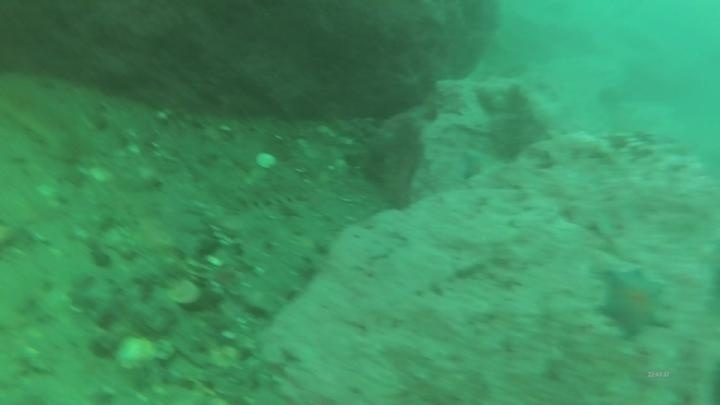holothurian: (229, 173, 312, 214)
starfish: (592, 264, 674, 343)
